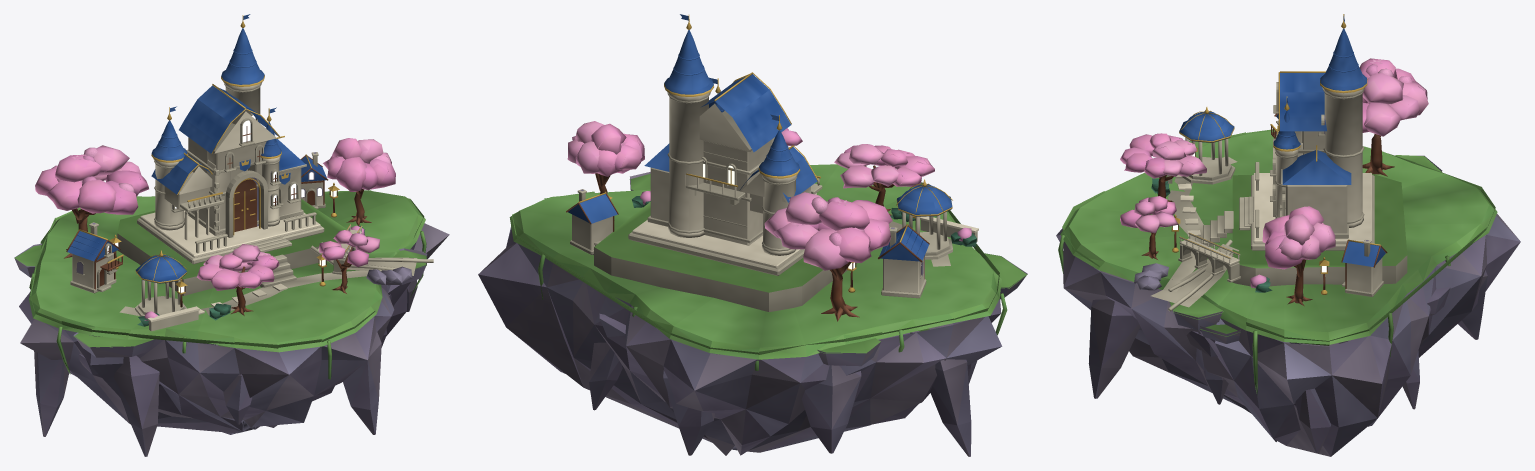
File: royal-island-right-background-v1-balanced.glb
The picture shows the model from 3 angles, left to right: view 1: azimuth 30°, elevation 25°; view 2: azimuth 150°, elevation 25°; view 3: azimuth 270°, elevation 25°; orthographic projection. The views are drawn at different scales.
Parts seen in each view (by area): view 1: royal-island-right-background-v1; view 2: royal-island-right-background-v1; view 3: royal-island-right-background-v1.
Boxes of the visible parts, box(x1,y1,x2,y2) form: royal-island-right-background-v1: box(14, 14, 449, 456); royal-island-right-background-v1: box(478, 14, 1027, 456); royal-island-right-background-v1: box(1056, 14, 1520, 456).
Size of the model in its own units: 19.01 by 16.74 by 16.24.
10 materials, 10 textured.
